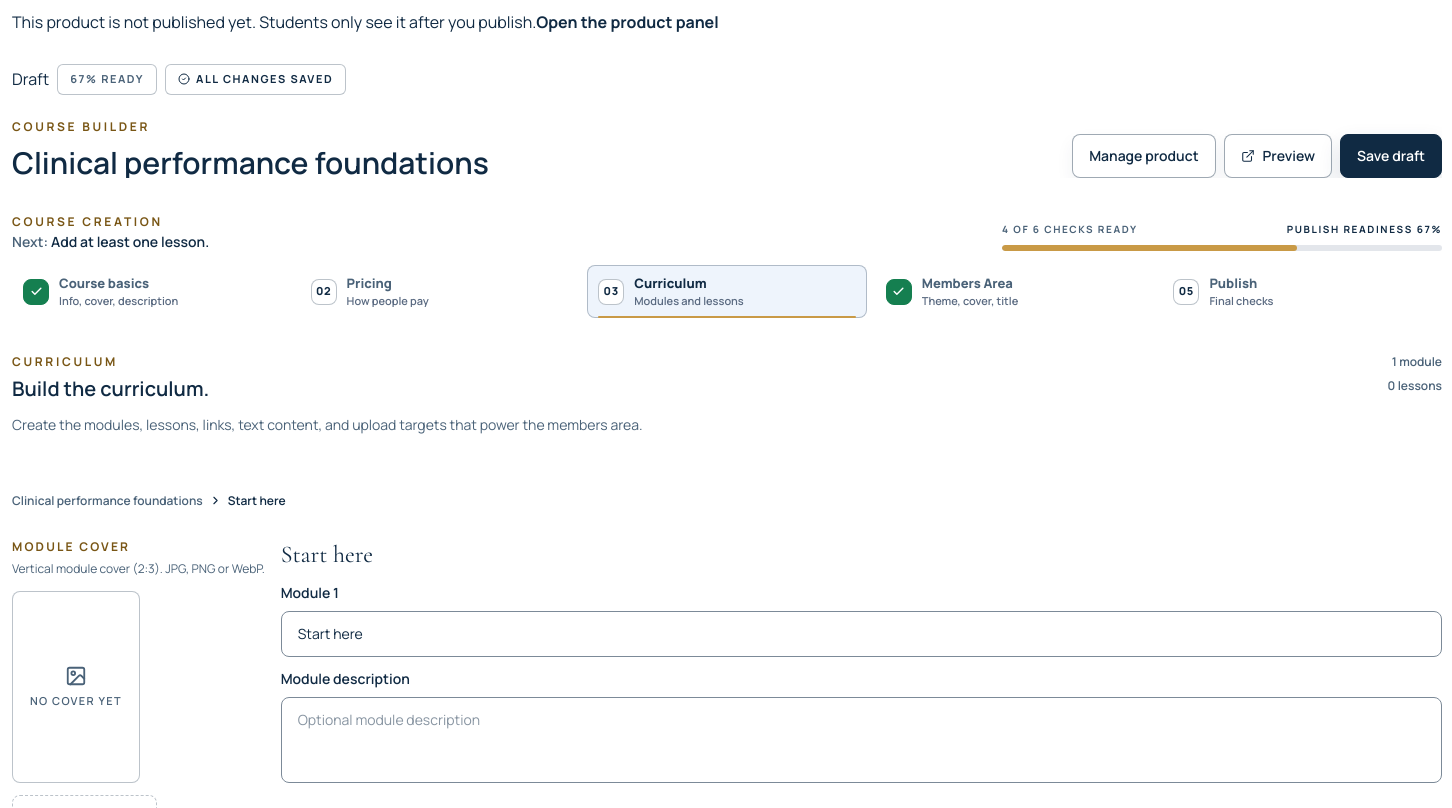
Test: builder grava o rascunho pendente ao sair › com save no ar, sair nao comeca uma segunda gravacao
Expected: the heading "Clinical performance foundations" is shown, left=12, top=142, right=489, bottom=178
Replace the text in the field labelled "Module 1" with "Start here, v1": (861, 634) left=281, top=611, right=1442, bottom=657
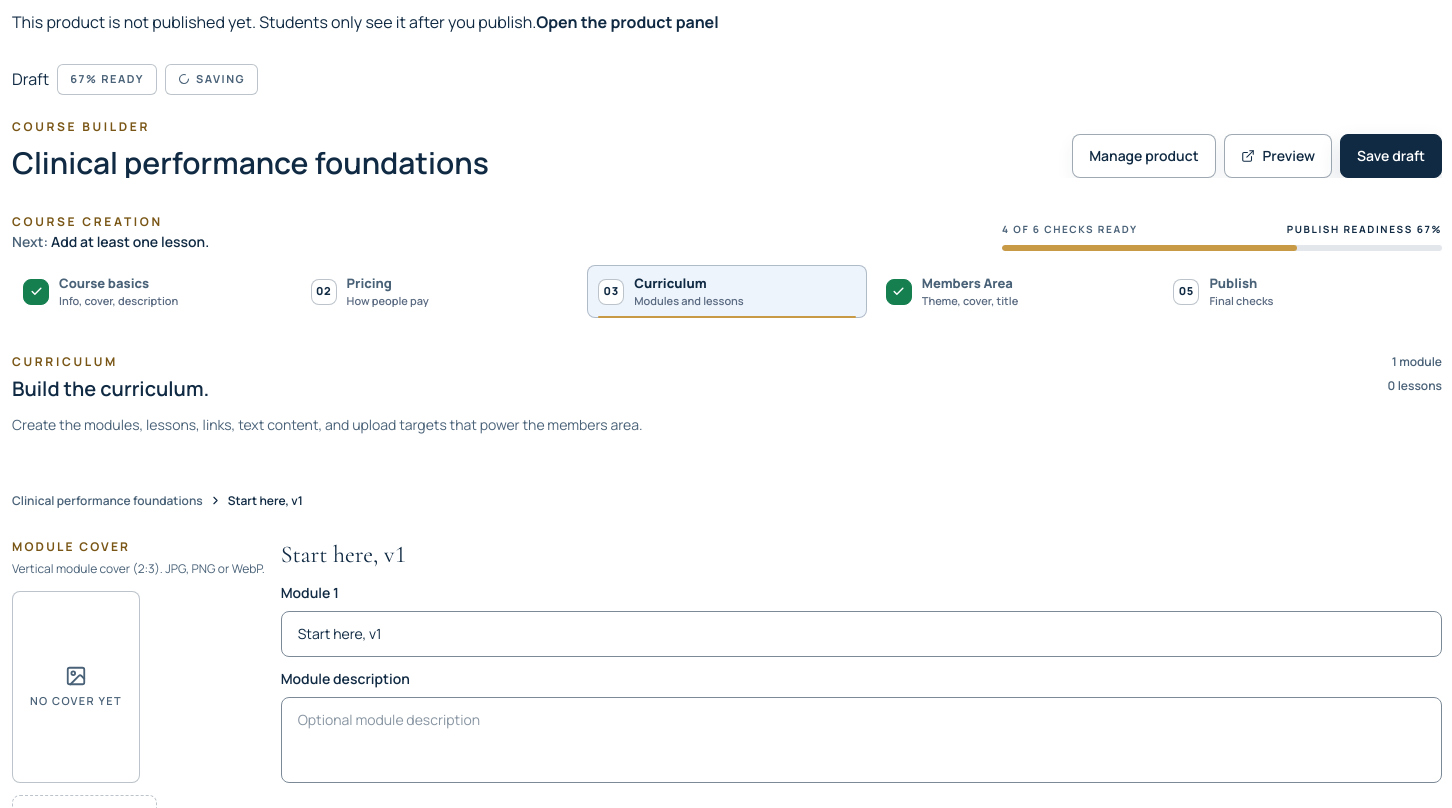
Replace the text in the field labelled "Module 1" with "Start here, v2": (861, 634) left=281, top=611, right=1442, bottom=657
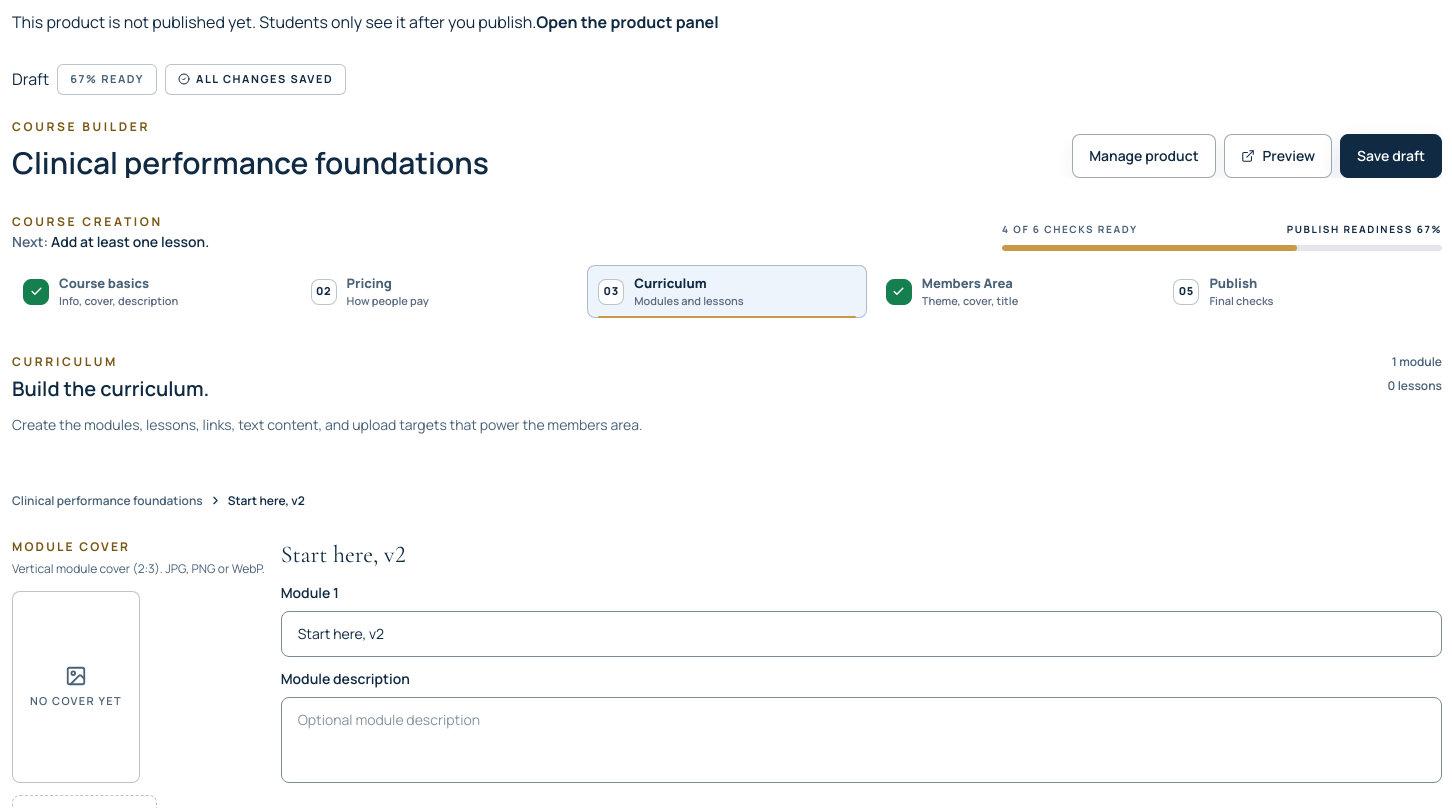
Expected: the text "Start here, v2" is shown, left=228, top=493, right=305, bottom=509
